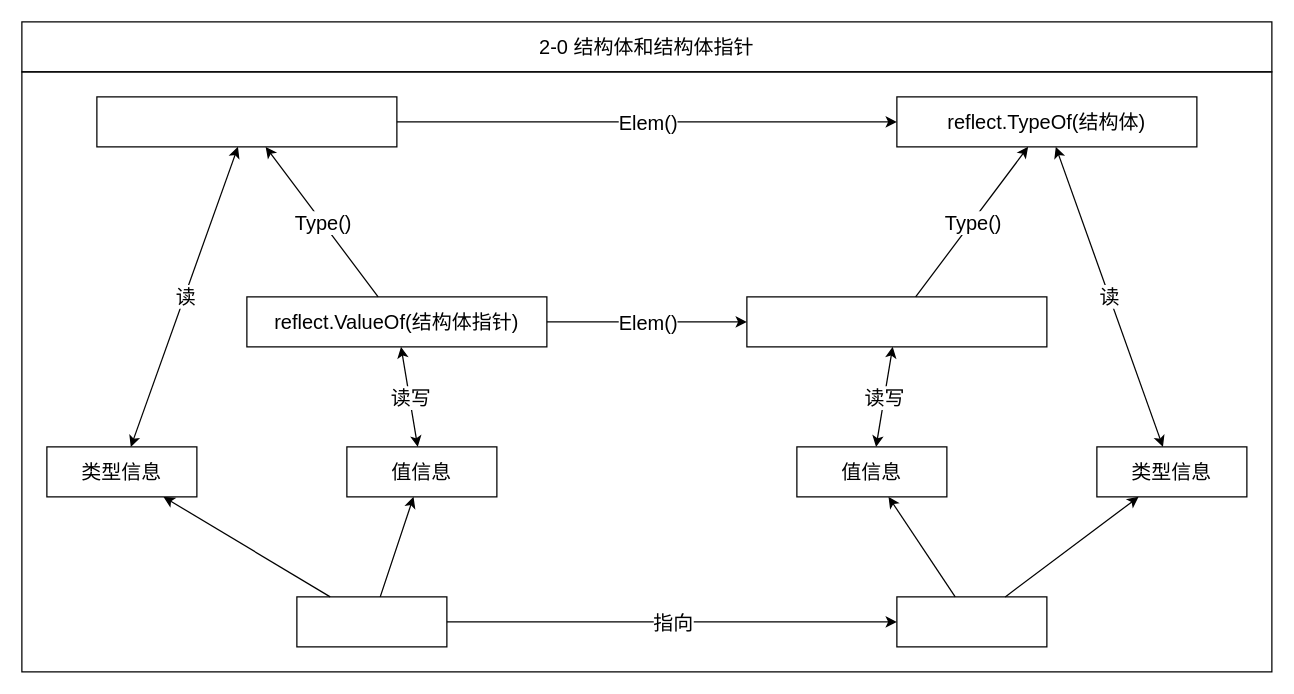
The diagram is 1294 pixels wide and 694 high, and some of its shapes have lost their labels. The shapes that lost their labels are listed below. From the top down, each one's box as (x1, y1, x2, y2) in pixels, then its label:
(96, 96, 397, 147): reflect.TypeOf(结构体指针)
(746, 296, 1047, 347): reflect.ValueOf(结构体)
(296, 596, 447, 647): 结构体指针
(896, 596, 1047, 647): 结构体
